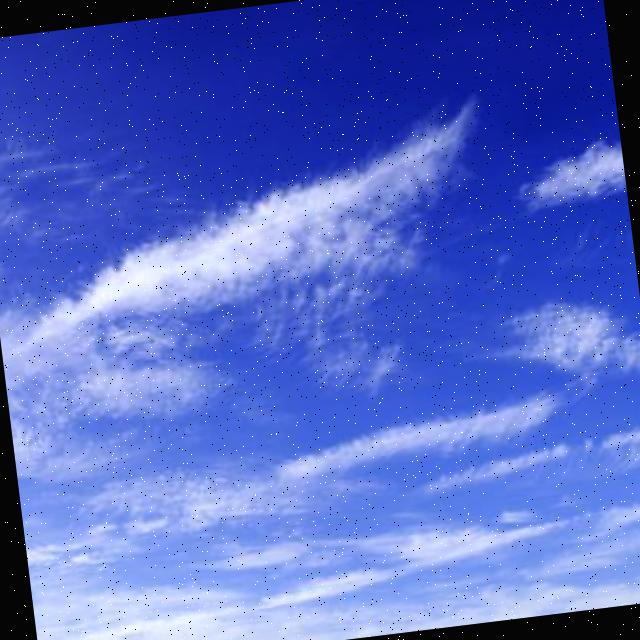Ci: (1, 35, 640, 640)
